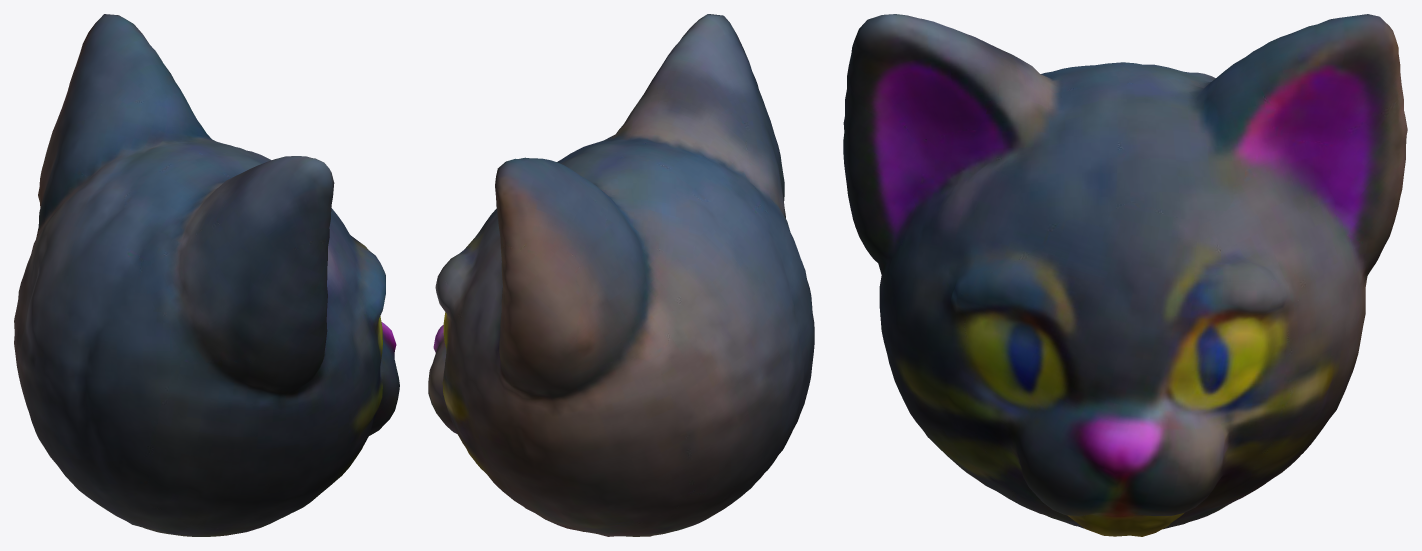
Rendered from 047_Create_cat_with_Oval_face_with_bright_eyes_a_friendly__0614163250_preview.obj.
3 views of the same model, side by side, from view 1: azimuth 30°, elevation 25°; view 2: azimuth 150°, elevation 25°; view 3: azimuth 270°, elevation 25° (orthographic). The views are drawn at different scales.
Visible parts, largest first — view 1: Mesh1; view 2: Mesh1; view 3: Mesh1.
Part boxes in pixels (bbox=[...]): Mesh1: bbox=[14, 14, 399, 536]; Mesh1: bbox=[428, 14, 814, 536]; Mesh1: bbox=[843, 14, 1407, 536].
Bounding box in the file's own units: 1.01 × 1.2 × 1.2.
Materials: 1 (1 with a texture image).
